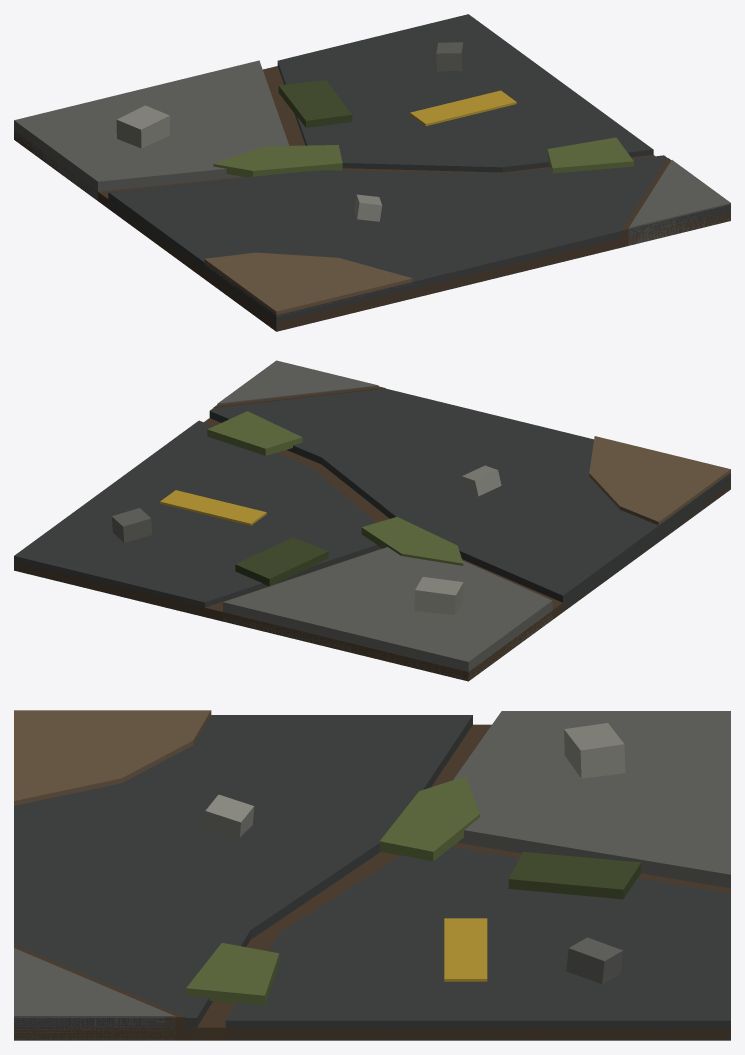
The model's file is ground_tile.glb.
3 views of the same model, one above another, from view 1: azimuth 30°, elevation 25°; view 2: azimuth 150°, elevation 25°; view 3: azimuth 270°, elevation 25° (orthographic). The views are drawn at different scales.
Parts seen in each view (by area): view 1: ground_tile_mesh; view 2: ground_tile_mesh; view 3: ground_tile_mesh.
Boxes of the visible parts, x1,y1,x2,y2 form: ground_tile_mesh: (14, 14, 730, 331); ground_tile_mesh: (14, 360, 730, 681); ground_tile_mesh: (14, 710, 730, 1040).
Bounding box in the file's own units: 2 × 0.1698 × 2.
